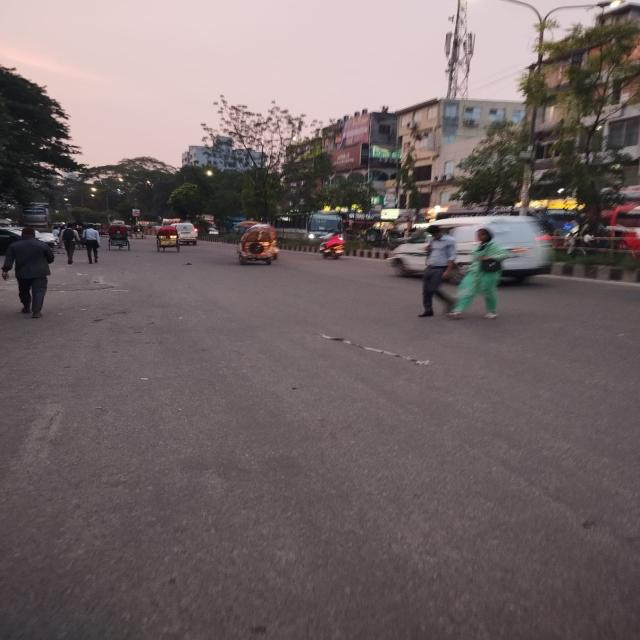person: (448, 228, 509, 319), (415, 225, 457, 318)
